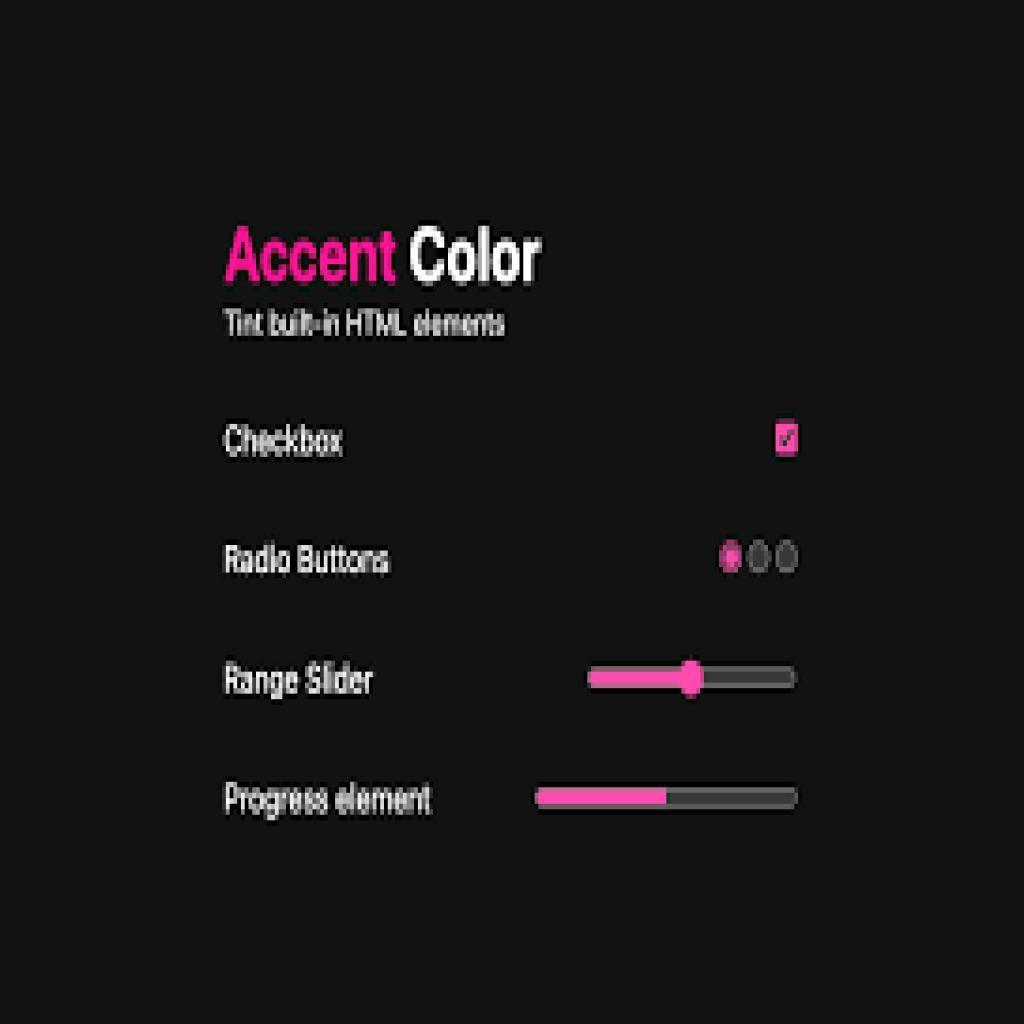checkbox: (775, 421, 801, 457)
radio: (773, 539, 800, 577), (718, 541, 744, 575), (747, 541, 771, 573)
slider: (580, 643, 811, 720), (529, 779, 819, 818)
